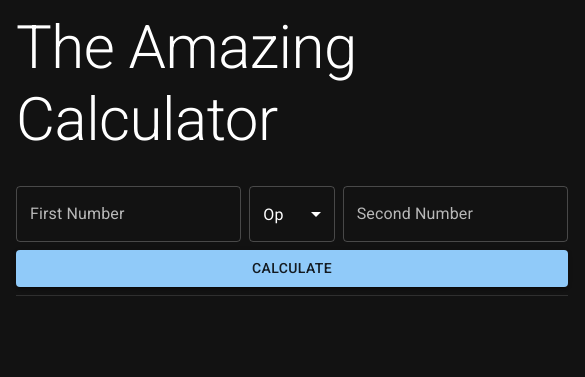
example to-do app › add two integers
Step 1. Type "3" into the field with id "first" → (129, 214), box x1=16 y1=186 x2=241 y2=242
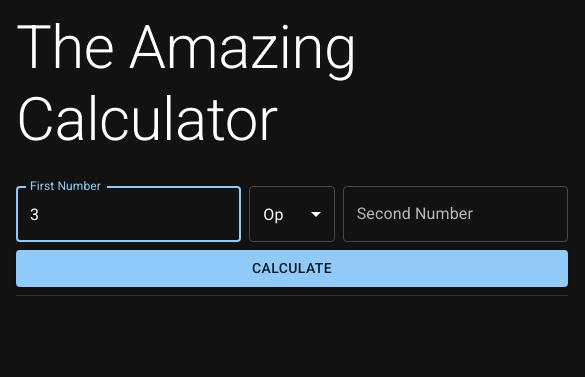
Step 2. Type "9" into the field with id "second" → (456, 214), box x1=343 y1=186 x2=568 y2=242
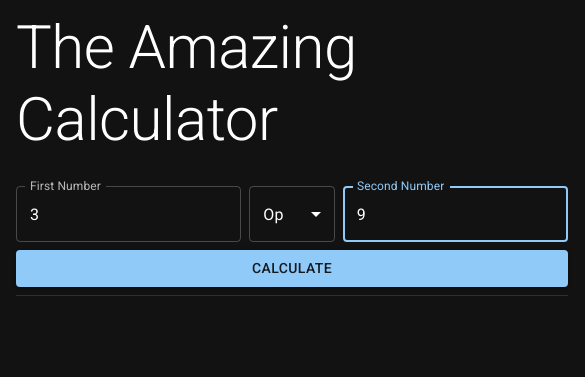
Step 3. Select "+" in the dropdown with id "operation" → (292, 214), box x1=249 y1=186 x2=334 y2=242
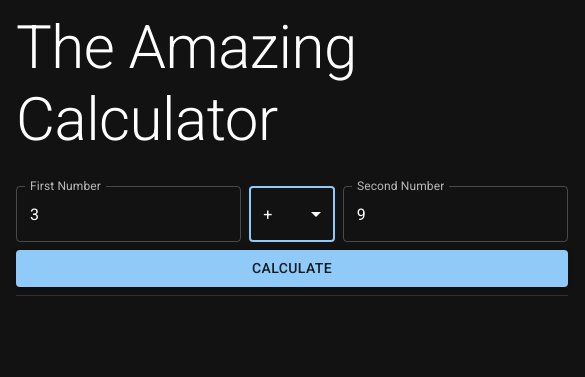
Step 4. Click the button "Calculate" → (292, 269), box x1=16 y1=250 x2=568 y2=287
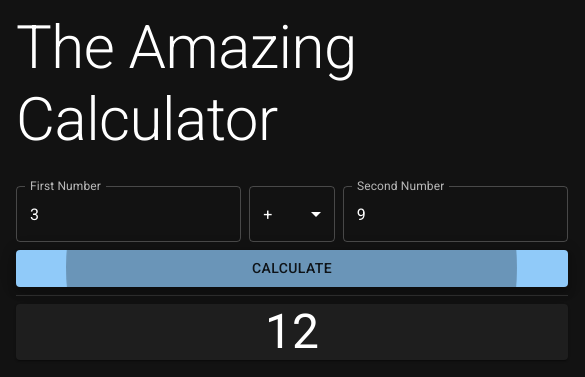
Expected: the heading with id "result" reads "12", x1=265 y1=303 x2=319 y2=360
